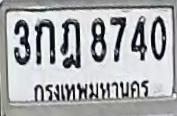0: (150, 15, 166, 60)
3: (13, 19, 30, 64)
4: (130, 15, 147, 60)
7: (109, 16, 126, 61)
8: (90, 17, 106, 62)
A01: (34, 18, 55, 64)
A14: (59, 18, 81, 68)
BKK: (29, 75, 152, 101)
